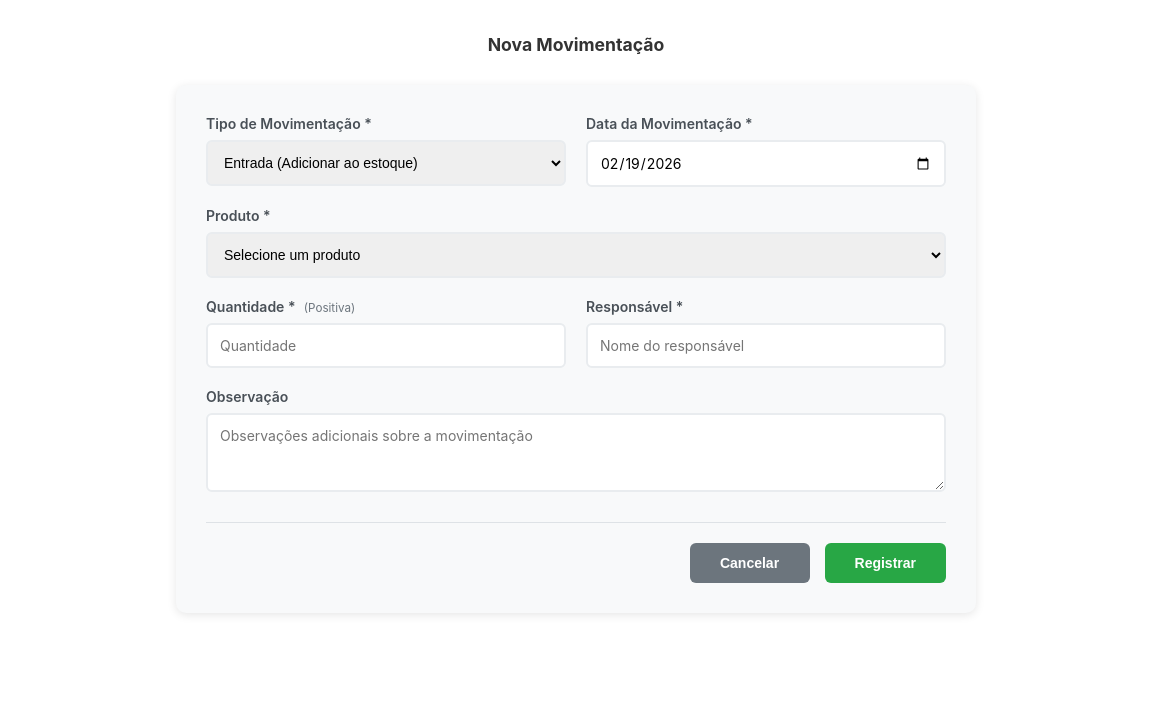
Scenario: Componente MovimentacaoForm › deve validar campos obrigatórios
Click the button "Registrar" at (885, 563), box [824,543,946,583]
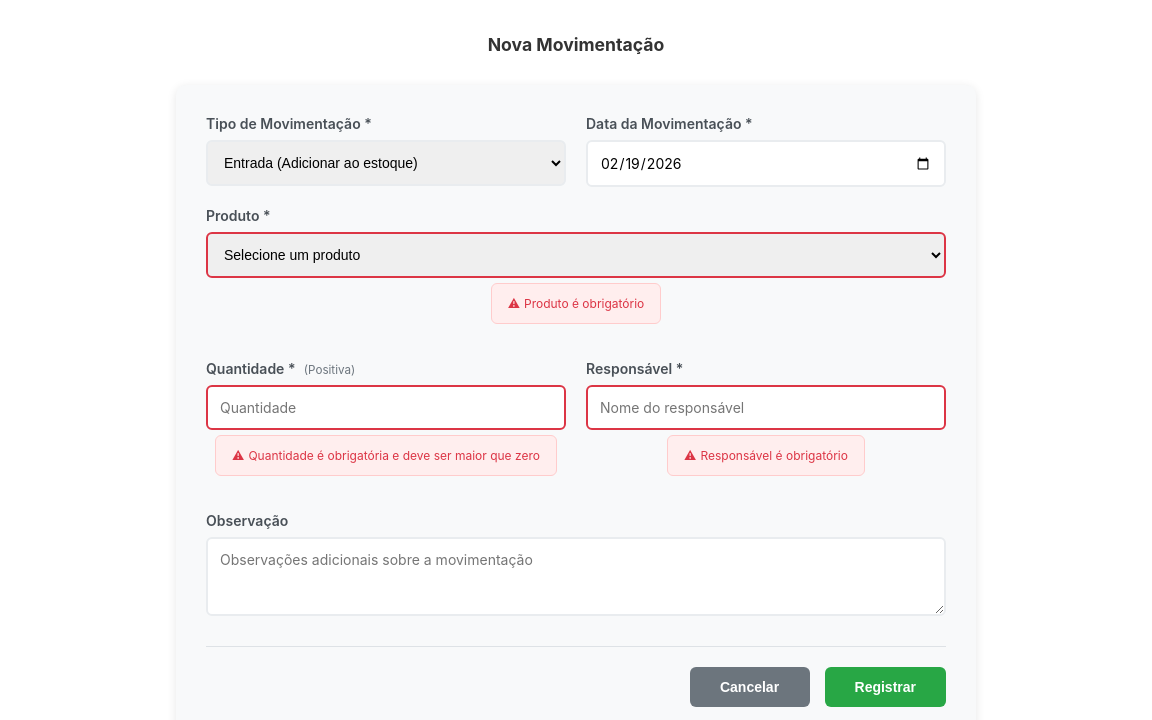
Check: the text "Produto é obrigatório" is shown, box [491,283,661,324]
Check: the text "Quantidade é obrigatória e deve ser maior que zero" is shown, box [215,435,557,476]
Check: the text "Responsável é obrigatório" is shown, box [667,435,865,476]
